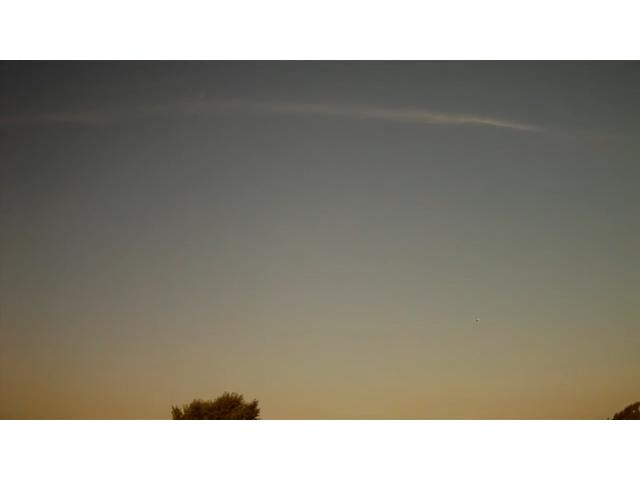Anti-Drone: (471, 308, 485, 328)
